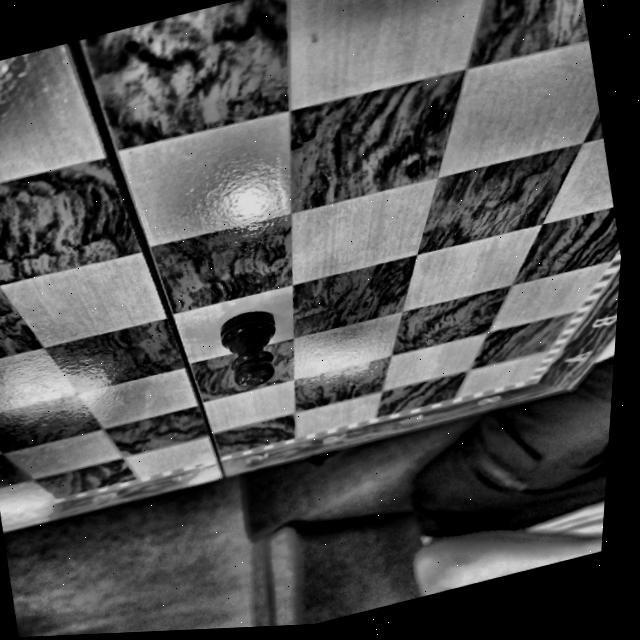black-pawn: (220, 311, 275, 387)
